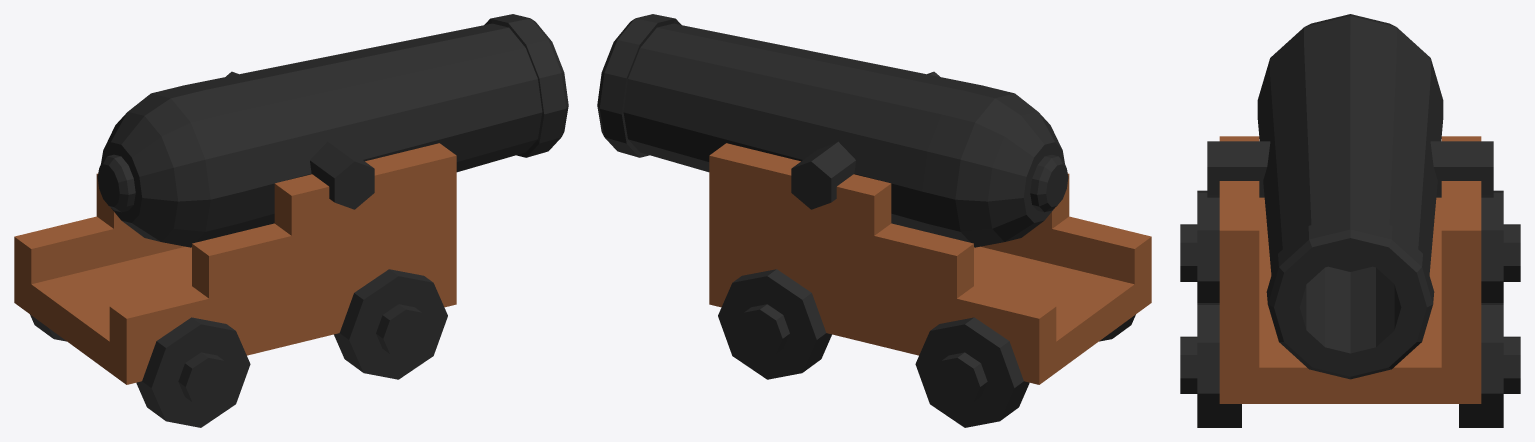
Rendered from Cannon.fbx.
The picture shows the model from 3 angles, left to right: view 1: azimuth 30°, elevation 25°; view 2: azimuth 150°, elevation 25°; view 3: azimuth 270°, elevation 25°; orthographic projection. The views are drawn at different scales.
Parts seen in each view (by area): view 1: Cylinder.004, Cube, Cylinder.001, Cylinder.002, Cylinder; view 2: Cylinder.004, Cube, Cylinder.003, Cylinder.005, Cylinder; view 3: Cylinder.004, Cube, Cylinder, Cylinder.002, Cylinder.005, Cylinder.001, Cylinder.003.
Boxes of the visible parts, x1,y1,x2,y2 form: Cylinder.004: [97, 14, 568, 247]; Cube: [14, 143, 456, 384]; Cylinder.001: [136, 317, 250, 427]; Cylinder.002: [334, 269, 447, 379]; Cylinder: [226, 71, 374, 209]; Cylinder.004: [597, 14, 1068, 247]; Cube: [709, 143, 1151, 384]; Cylinder.003: [915, 317, 1029, 427]; Cylinder.005: [718, 269, 831, 379]; Cylinder: [791, 71, 939, 209]; Cylinder.004: [1257, 14, 1443, 379]; Cube: [1219, 136, 1481, 403]; Cylinder: [1207, 141, 1493, 197]; Cylinder.002: [1180, 303, 1241, 427]; Cylinder.005: [1459, 303, 1520, 427]; Cylinder.001: [1180, 190, 1219, 302]; Cylinder.003: [1481, 190, 1520, 302].
Size of the model in its own units: 282 by 158 by 153.
